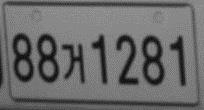1: (169, 33, 187, 88), (90, 33, 108, 86)
2: (115, 33, 139, 84)
8: (140, 34, 165, 86), (11, 32, 34, 82), (36, 33, 59, 83)
거: (60, 41, 86, 84)
